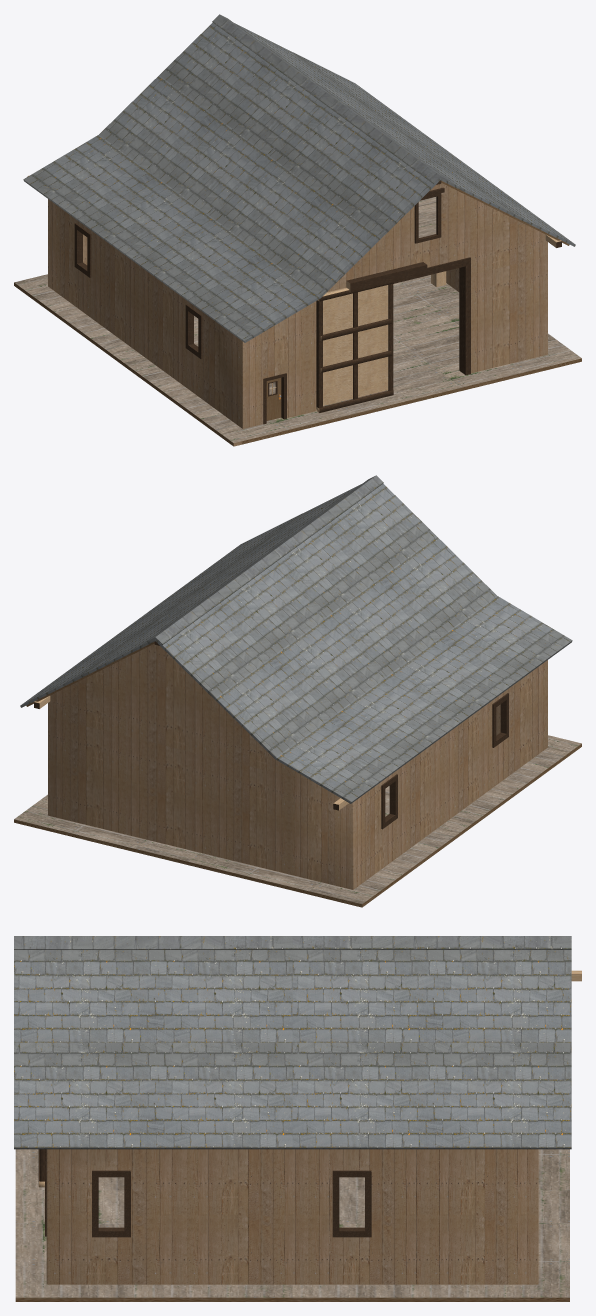
File: Bldg_Base_1.fbx
3 renders of one model, top to bottom at view 1: azimuth 30°, elevation 25°; view 2: azimuth 150°, elevation 25°; view 3: azimuth 270°, elevation 25°, orthographic. The views are drawn at different scales.
Parts seen in each view (by area): view 1: Bldg_Storage, Bldg_Base_1, BigDoor, BigDoorFrame, Cube.004, Platform, Door.001; view 2: Bldg_Storage, Bldg_Base_1; view 3: Bldg_Storage, Bldg_Base_1.
Boxes of the visible parts, bbox=[...] form: Bldg_Storage: bbox=[23, 14, 575, 428]; Bldg_Base_1: bbox=[14, 274, 581, 446]; BigDoor: bbox=[316, 282, 393, 413]; BigDoorFrame: bbox=[393, 257, 470, 375]; Cube.004: bbox=[346, 262, 427, 292]; Platform: bbox=[418, 197, 446, 287]; Door.001: bbox=[266, 378, 281, 420]; Bldg_Storage: bbox=[20, 475, 572, 889]; Bldg_Base_1: bbox=[14, 735, 581, 907]; Bldg_Storage: bbox=[14, 936, 581, 1284]; Bldg_Base_1: bbox=[15, 1149, 569, 1301].
Bounding box in the file's own units: 16.29 × 9.87 × 18.25.
